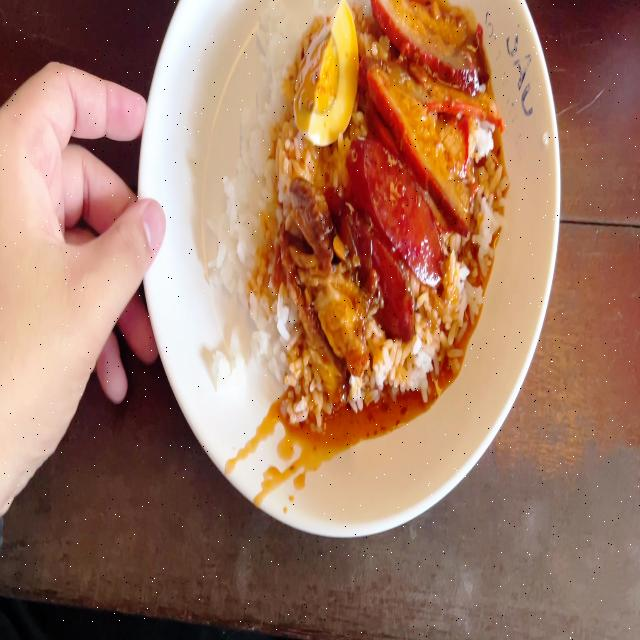boiled_egg: (299, 20, 354, 134)
chainese_sausage: (349, 152, 418, 316)
crispy_pork: (290, 190, 340, 388)
red_pork: (390, 0, 491, 184)
red_pork_and_crispy_pork: (219, 38, 502, 412)
rice: (231, 92, 284, 380), (258, 43, 287, 173)
